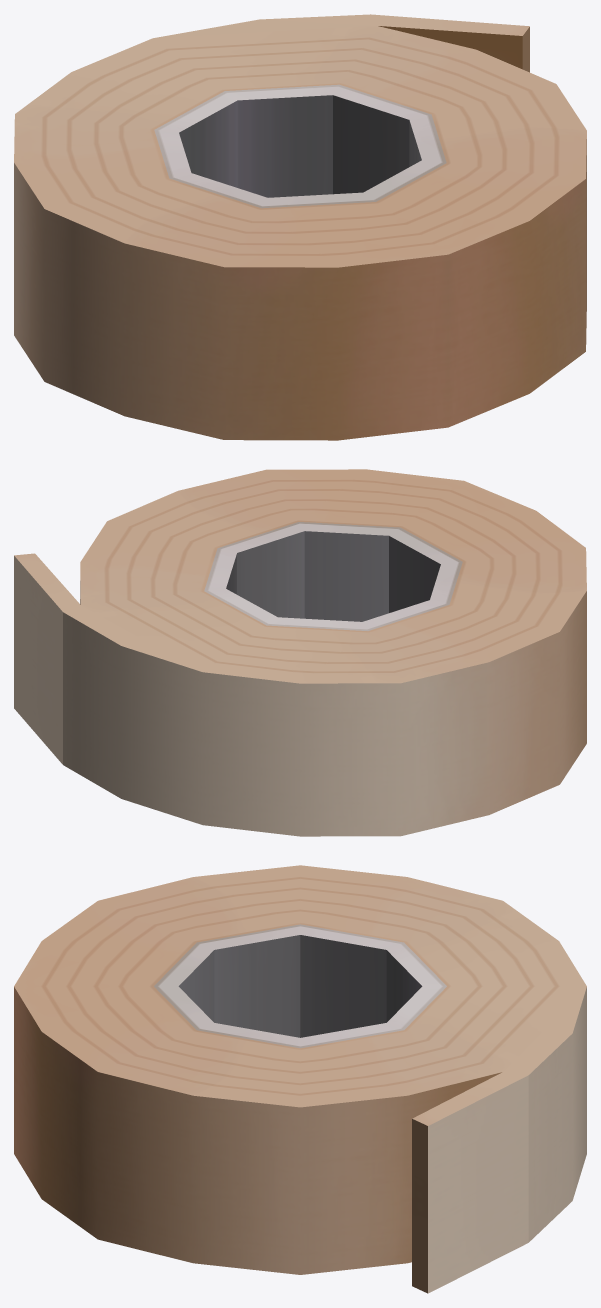
The model's file is Healing_Bandage_Base_0_Mod.FBX.
The picture shows the model from 3 angles, top to bottom: view 1: azimuth 30°, elevation 25°; view 2: azimuth 150°, elevation 25°; view 3: azimuth 270°, elevation 25°; orthographic projection. The views are drawn at different scales.
Visible parts, largest first — view 1: Healing_Bandage_Base_0_Mod; view 2: Healing_Bandage_Base_0_Mod; view 3: Healing_Bandage_Base_0_Mod.
Boxes of the visible parts, x1,y1,x2,y2 form: Healing_Bandage_Base_0_Mod: [14, 14, 586, 440]; Healing_Bandage_Base_0_Mod: [14, 469, 586, 836]; Healing_Bandage_Base_0_Mod: [14, 865, 586, 1293].
Bounding box in the file's own units: 26.56 × 7.96 × 24.66.
